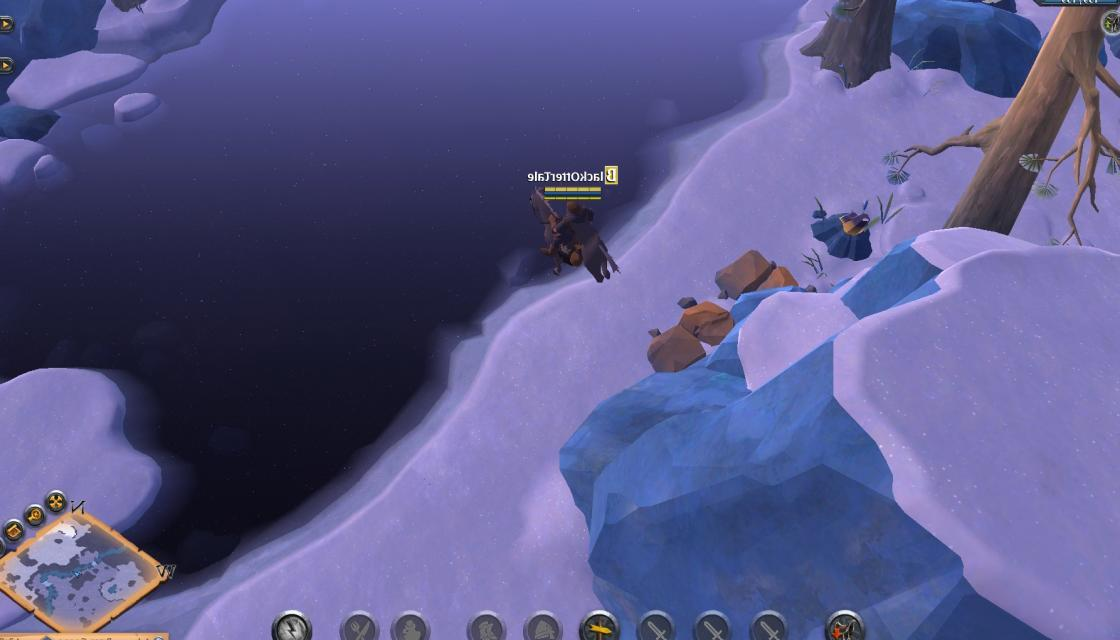copperore: (812, 202, 878, 259), (1102, 8, 1120, 60)
limestone: (646, 291, 737, 378), (716, 246, 802, 302)
